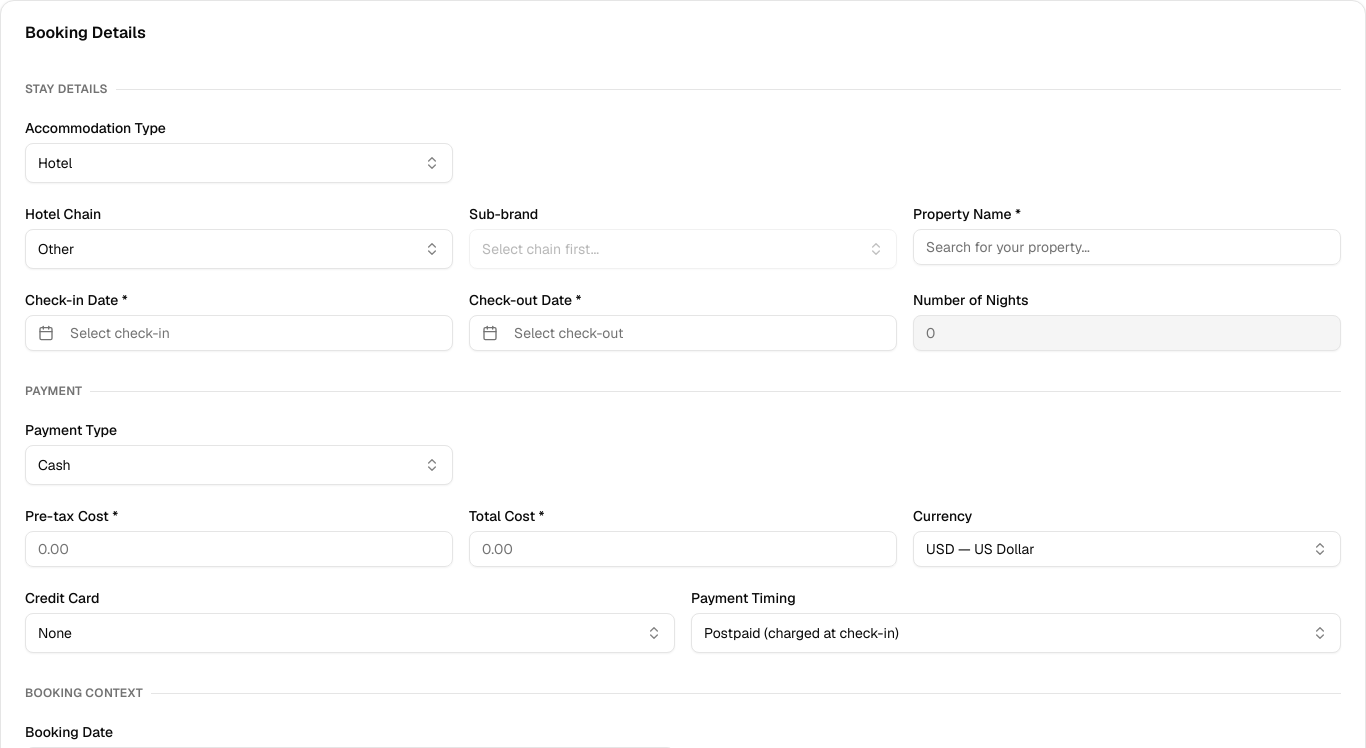
BookingForm › Sub-brand selector is always visible but disabled if no chain or no sub-brands
Expected: the dropdown with test id "sub-brand-select" is disabled, [469,229,897,269]
Expected: the text "Select chain first..." is shown, [482,239,599,259]
Click the dropdown with test id "hotel-chain-select". click: (56, 249)
box: [25,229,453,269]
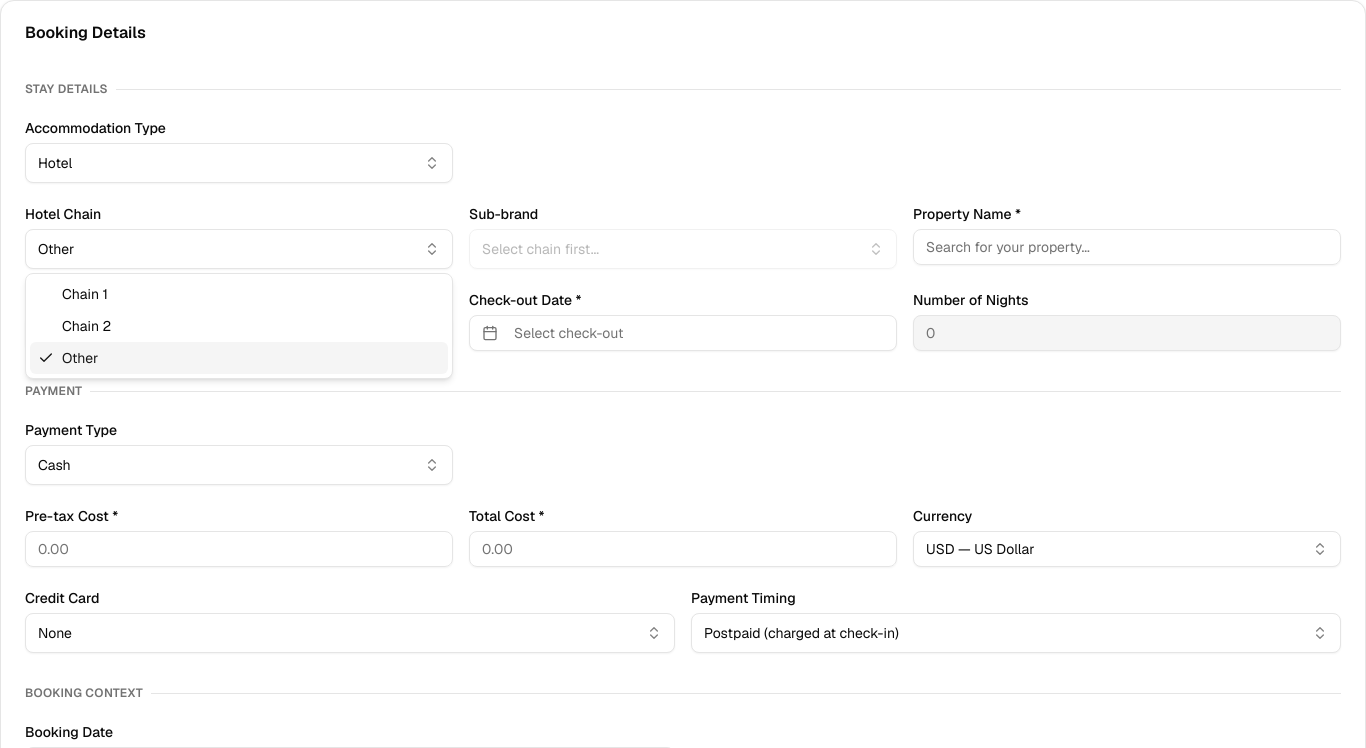
Click the option "Chain 1". click: (85, 294)
box: [62,285,108,303]
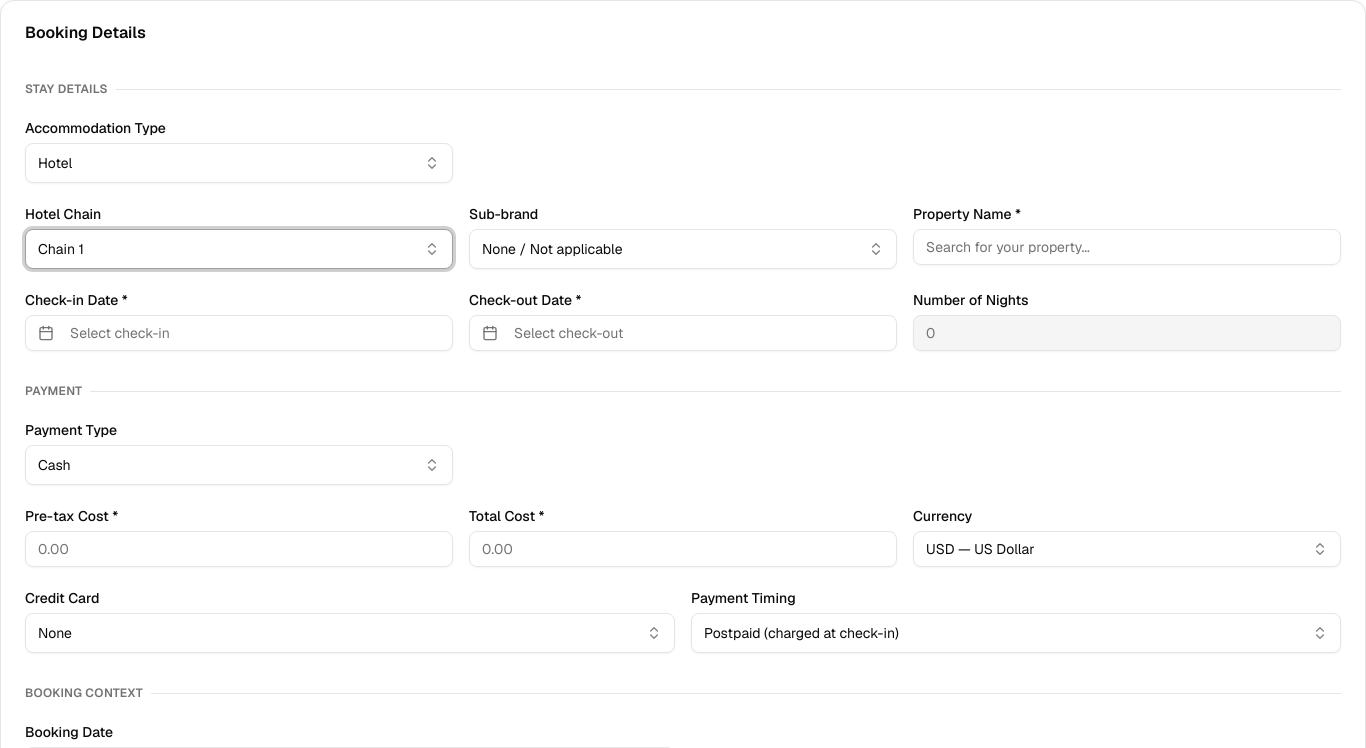
Expected: the dropdown with test id "sub-brand-select" is enabled, [469,229,897,269]
Expected: the text "None / Not applicable" is shown, [482,239,623,259]
Click the dropdown with test id "hotel-chain-select". click: (61, 249)
box: [25,229,453,269]
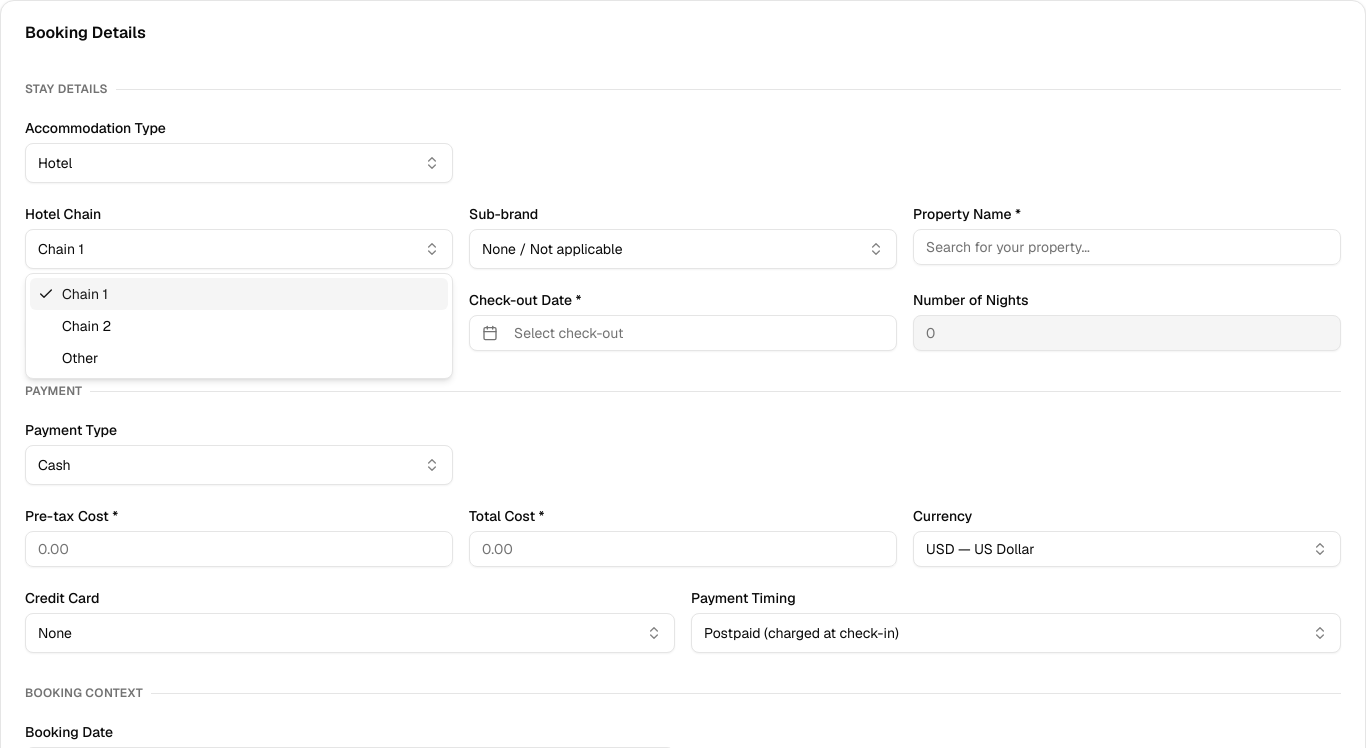
Click the option "Chain 2". click: (87, 326)
box: [62,317,111,335]
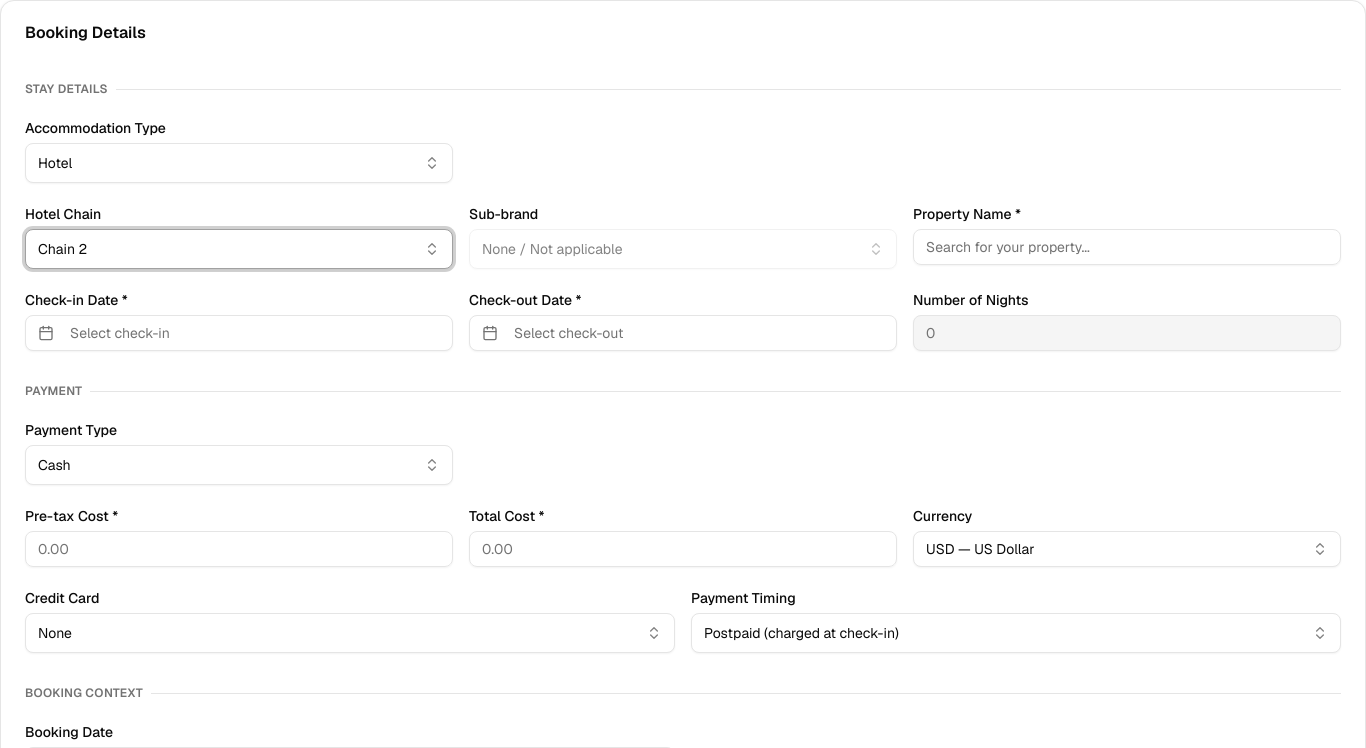
Expected: the text "None / Not applicable" is shown, [482,239,623,259]
Expected: the dropdown with test id "sub-brand-select" is disabled, [469,229,897,269]
